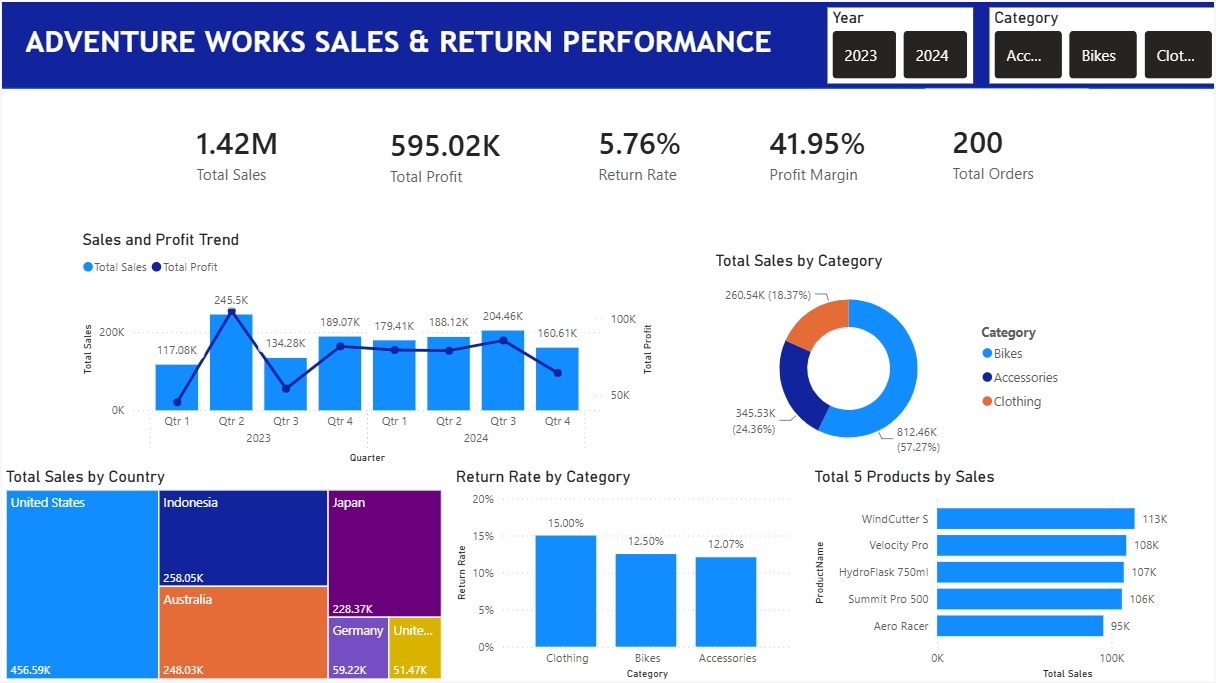

Layout of this report page (visuals, bound fields, positions):
{"tool":"powerbi","page":{"name":"Page 1","canvas":[1280,720],"ordinal":0},"visuals":[{"type":"cardVisual","fields":{"Data":["Sales.Total Sales"]},"box":[176.7,110,145,100],"z":1000},{"type":"cardVisual","fields":{"Data":["Sales.Total Profit"]},"box":[380,98.3,185,128.3],"z":2000},{"type":"cardVisual","fields":{"Data":["Sales.Return Rate"]},"box":[600,96.7,180,128.3],"z":3000},{"type":"cardVisual","fields":{"Data":["Sales.Profit Margin"]},"box":[780,96.7,180,128.3],"z":4000},{"type":"donutChart","fields":{"Category":["Products.Category"],"Y":["Sales.Total Sales"]},"box":[746.7,263.3,380,228.3],"z":5000},{"type":"clusteredColumnChart","fields":{"Category":["Products.Category"],"Y":["Sales.Return Rate"]},"box":[473.3,491.7,363.3,228.3],"z":6000},{"type":"lineClusteredColumnComboChart","title":"Sales and Profit Trend","fields":{"Y":["Sales.Total Sales"],"Y2":["Sales.Total Profit"],"Category":["Calendar.Date.Variation.Date Hierarchy.Year","Calendar.Date.Variation.Date Hierarchy.Quarter"]},"box":[80,241.7,610,250],"z":7000},{"type":"treemap","fields":{"Group":["Territories.Country"],"Values":["Sales.Total Sales"]},"box":[0,491.7,468.3,228.3],"z":8000},{"type":"shape","title":"dnjndjscodspdcs","box":[0,0,1280,93.3],"z":9000},{"type":"textbox","box":[20,18.3,813.3,58.3],"z":10000},{"type":"clusteredBarChart","title":"Total 5 Products by Sales","fields":{"Category":["Products.ProductName"],"Y":["Sales.Total Sales"]},"box":[851.7,491.7,428.3,228.3],"z":11000},{"type":"advancedSlicerVisual","fields":{"Values":["Calendar.Year"]},"box":[870,8.3,153.3,80],"z":12000},{"type":"advancedSlicerVisual","fields":{"Values":["Products.Category"]},"box":[1040,8.3,240,80],"z":13000},{"type":"cardVisual","fields":{"Data":["Sales.Total Orders"]},"box":[973.3,93.3,171.7,133.3],"z":14000}]}

Visuals, with their boxes in screenshot pixels (x1, y1, x2, y2), scaled from the page's 1280x720 canvas onto the 1216x683 screenshot:
cardVisual - Sales.Total Sales: crop(168, 104, 306, 199)
cardVisual - Sales.Total Profit: crop(361, 93, 537, 215)
cardVisual - Sales.Return Rate: crop(570, 92, 741, 213)
cardVisual - Sales.Profit Margin: crop(741, 92, 912, 213)
donutChart - Products.Category x Sales.Total Sales: crop(709, 250, 1070, 466)
clusteredColumnChart - Products.Category x Sales.Return Rate: crop(450, 466, 795, 682)
"Sales and Profit Trend" lineClusteredColumnComboChart: crop(76, 229, 656, 466)
treemap - Territories.Country x Sales.Total Sales: crop(0, 466, 445, 682)
"dnjndjscodspdcs" shape: crop(0, 0, 1215, 89)
textbox: crop(19, 17, 792, 73)
"Total 5 Products by Sales" clusteredBarChart: crop(809, 466, 1215, 682)
advancedSlicerVisual - Calendar.Year: crop(826, 8, 972, 84)
advancedSlicerVisual - Products.Category: crop(988, 8, 1215, 84)
cardVisual - Sales.Total Orders: crop(925, 89, 1088, 215)
